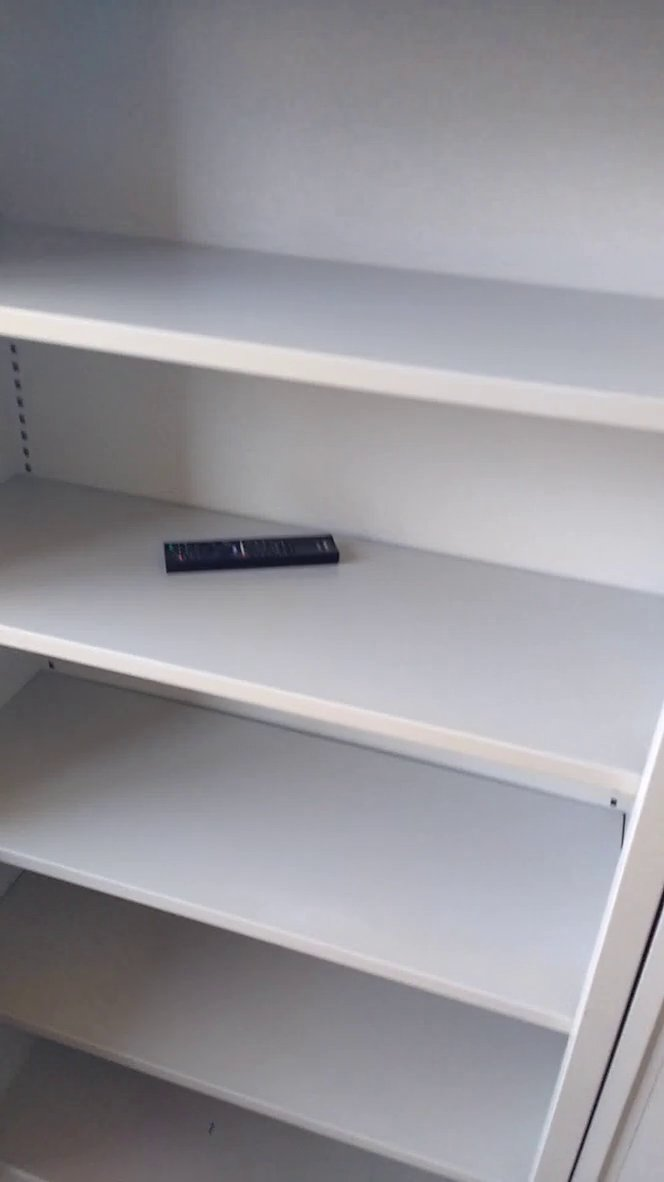remote: (149, 518, 351, 594)
